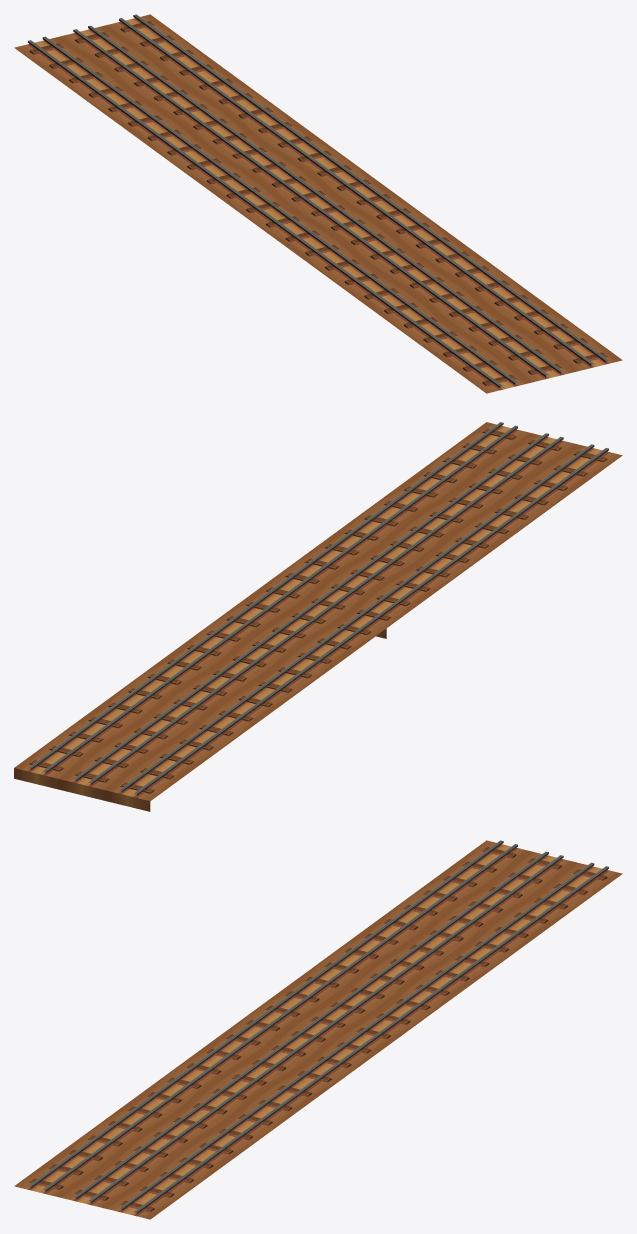
File: 1.100_SanFrancisco_track_gates_shadow.glb
The picture shows the model from 3 angles, top to bottom: view 1: azimuth 30°, elevation 25°; view 2: azimuth 150°, elevation 25°; view 3: azimuth 330°, elevation 25°; orthographic projection.
Parts seen in each view (by area): view 1: 1.100_SanFrancisco_track_gates_shadow; view 2: 1.100_SanFrancisco_track_gates_shadow; view 3: 1.100_SanFrancisco_track_gates_shadow.
Part boxes in pixels (box(x1,y1,x2,y2)): 1.100_SanFrancisco_track_gates_shadow: box(14, 14, 622, 393); 1.100_SanFrancisco_track_gates_shadow: box(14, 422, 622, 811); 1.100_SanFrancisco_track_gates_shadow: box(14, 840, 622, 1219).
Bounding box in the file's own units: 60 × 5.96 × 360.
Materials: 2 (2 with a texture image).
